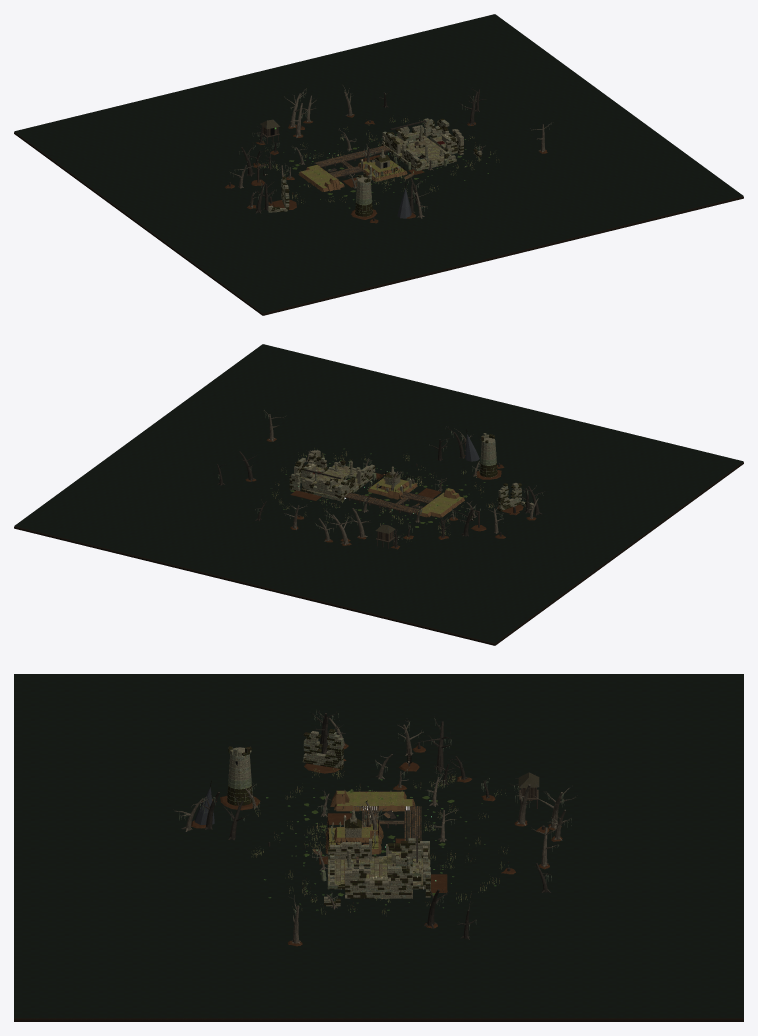
The model's file is drowned_chapel.glb.
3 renders of one model, top to bottom at view 1: azimuth 30°, elevation 25°; view 2: azimuth 150°, elevation 25°; view 3: azimuth 270°, elevation 25°, orthographic. The views are drawn at different scales.
Parts seen in each view (by area): view 1: FX_Water swamp, Ruin masonry, Far trees, Outer bed, Banks, Far ruins, Flagstones, Reeds, Boardwalks, Fen grass; view 2: FX_Water swamp, Ruin masonry, Far trees, Outer bed, Banks, Far ruins, Reeds, Boardwalks, Fen grass, Flagstones; view 3: FX_Water swamp, Ruin masonry, Far trees, Outer bed, Far ruins, Banks, Reeds, Fen grass, Flagstones, Boardwalks, Hanging moss, Dead trees (+2 smaller).
Boxes of the visible parts, box(x1,y1,x2,y2) form: FX_Water swamp: box(14, 14, 743, 313); Ruin masonry: box(361, 118, 481, 177); Far trees: box(229, 85, 551, 220); Outer bed: box(14, 132, 743, 315); Banks: box(224, 114, 547, 223); Far ruins: box(268, 172, 372, 216); Flagstones: box(383, 131, 457, 168); Reeds: box(257, 117, 499, 208); Boardwalks: box(315, 145, 389, 177); Fen grass: box(301, 160, 405, 188); FX_Water swamp: box(14, 344, 743, 643); Ruin masonry: box(289, 450, 414, 501); Far trees: box(217, 410, 545, 547); Outer bed: box(14, 462, 743, 645); Banks: box(245, 437, 536, 549); Far ruins: box(479, 433, 533, 511); Reeds: box(270, 448, 497, 539); Boardwalks: box(344, 491, 434, 513); Fen grass: box(370, 478, 462, 514); Flagstones: box(301, 465, 371, 497); FX_Water swamp: box(14, 674, 743, 1018); Ruin masonry: box(321, 809, 430, 906); Far trees: box(174, 709, 577, 943); Outer bed: box(14, 1018, 743, 1021); Far ruins: box(227, 729, 343, 805); Banks: box(202, 743, 562, 946); Reeds: box(251, 767, 510, 914); Fen grass: box(328, 792, 412, 848); Flagstones: box(328, 852, 429, 885); Boardwalks: box(362, 806, 421, 840); Hanging moss: box(179, 710, 571, 929); Dead trees: box(311, 774, 458, 870).
Bounding box in the file's own units: 96 × 8.72 × 86.
39 materials, 39 textured.
